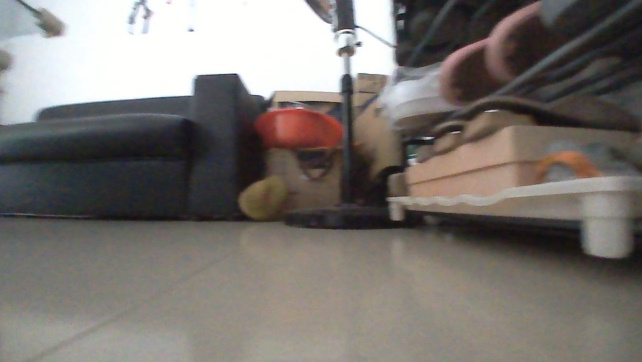chair_base: (277, 194, 399, 231)
sofa: (0, 69, 272, 225)
